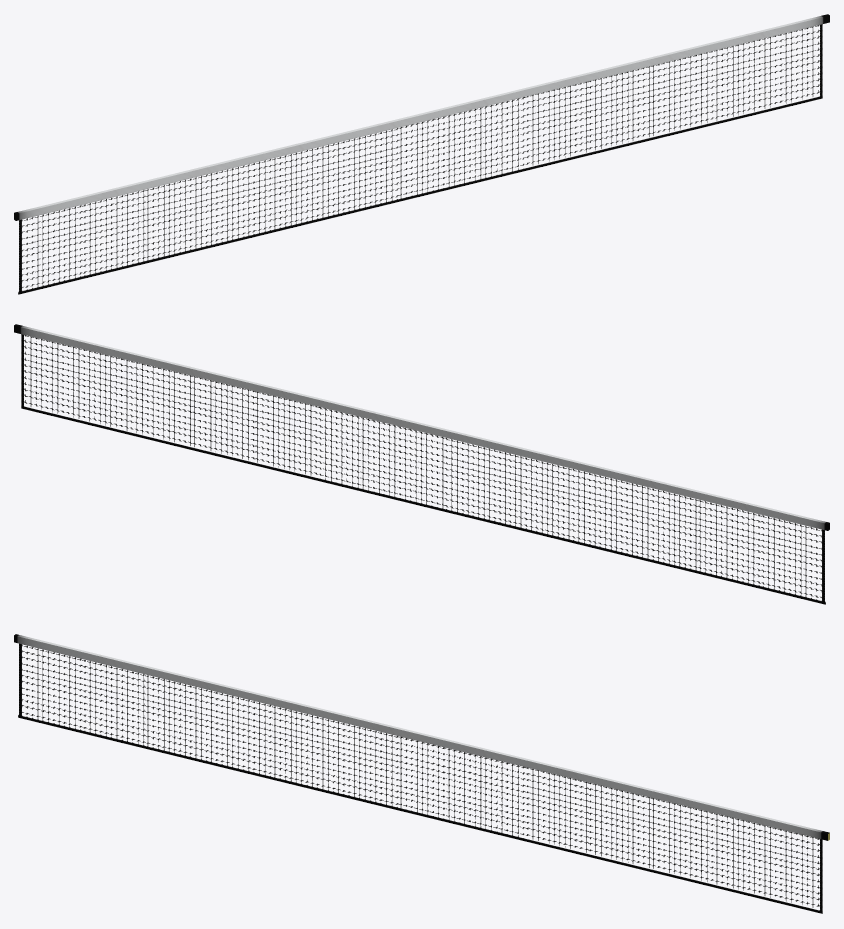
File: tennisNet.fbx
3 renders of one model, top to bottom at view 1: azimuth 30°, elevation 25°; view 2: azimuth 150°, elevation 25°; view 3: azimuth 330°, elevation 25°, orthographic.
Visible parts, largest first — view 1: TennisNetPole; view 2: TennisNetPole; view 3: TennisNetPole.
Boxes of the visible parts, x1=… form: TennisNetPole: x1=14, y1=14, x2=829, y2=294; TennisNetPole: x1=14, y1=324, x2=829, y2=604; TennisNetPole: x1=14, y1=634, x2=829, y2=913.
Bounding box in the file's own units: 12.15 × 1.19 × 0.0495.
